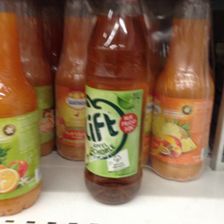juice: (85, 1, 150, 207), (150, 1, 215, 182), (1, 2, 42, 217)
